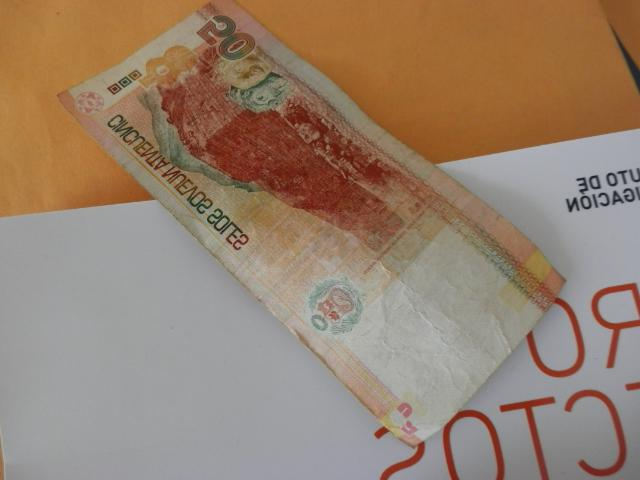B50: (56, 3, 566, 448)
